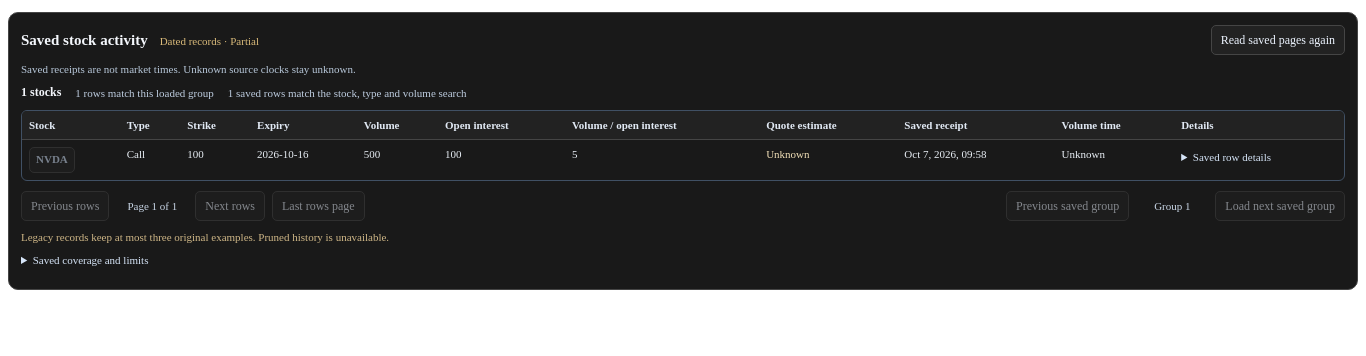
Scenario: failed re-reading keeps an earlier checked group clearly marked
The width and height of the screenshot is (1366, 356).
Expected: the button with aria-label "Open current stock NVDA" is shown, x1=29 y1=147 x2=75 y2=173
Click the button "Read saved pages again". click: point(1278, 40)
box: x1=1211 y1=25 x2=1345 y2=55
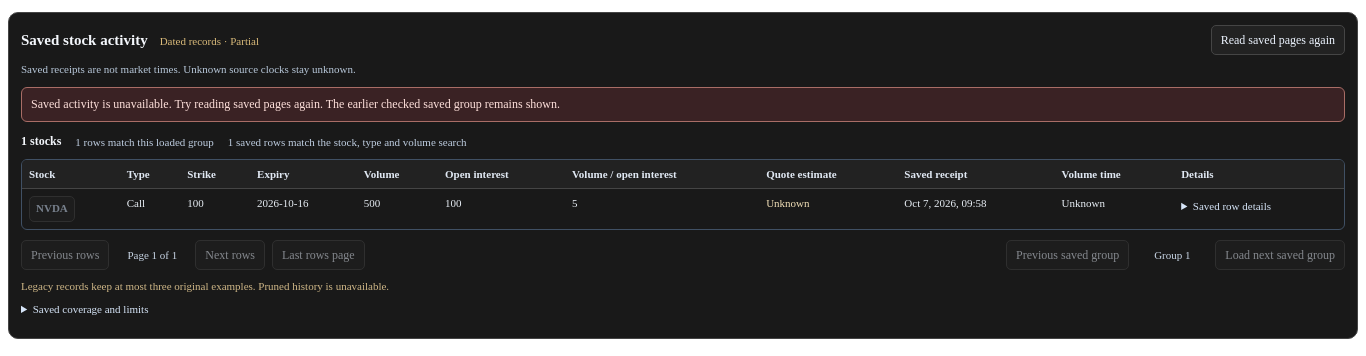
Expected: the button with aria-label "Open current stock NVDA" is shown, x1=29 y1=196 x2=75 y2=222
Now the message is shown, box x1=21 y1=87 x2=1345 y2=122
Now the message shows "earlier checked saved group remains shown", box x1=323 y1=97 x2=560 y2=111
